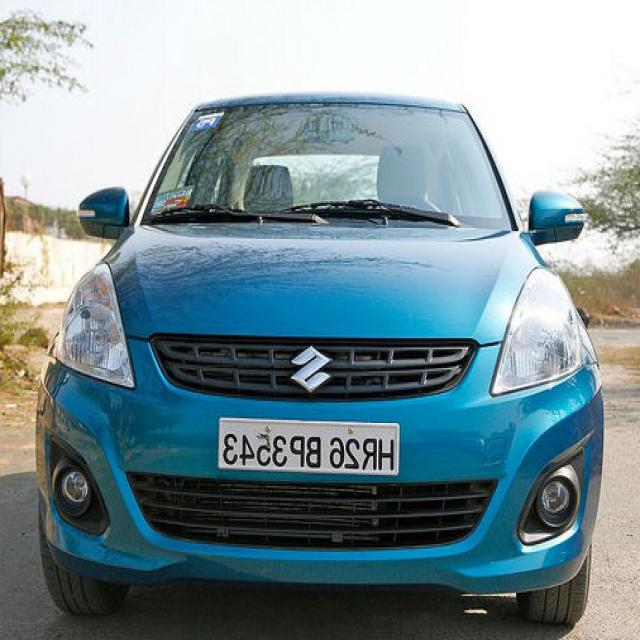license_plate: (214, 418, 406, 476)
